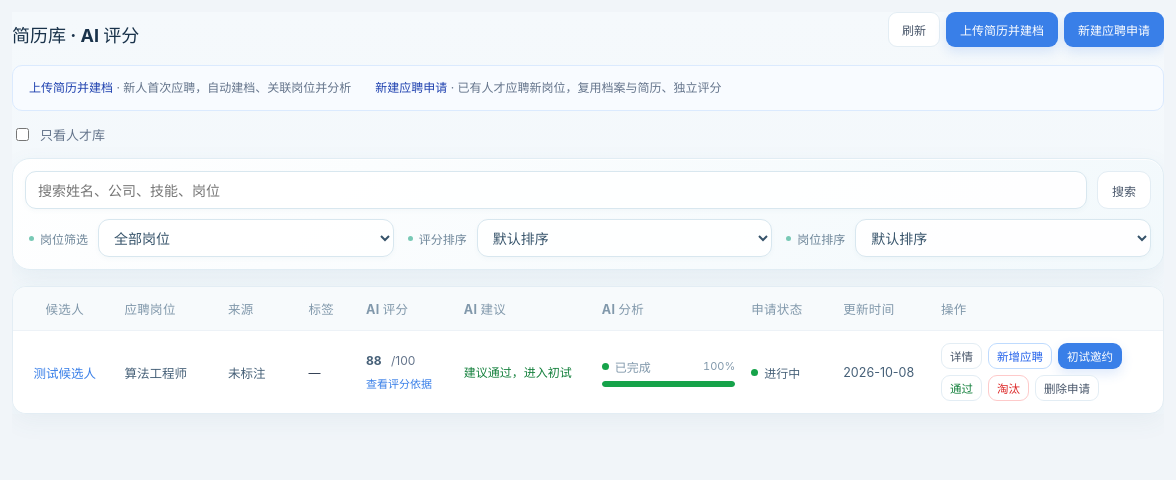
it: AI screening direct initial invitation › does not approve or schedule a stale row whose current status is rejected
Click the button "初试邀约". click: click(1090, 356)
box: [1058,343,1122,369]
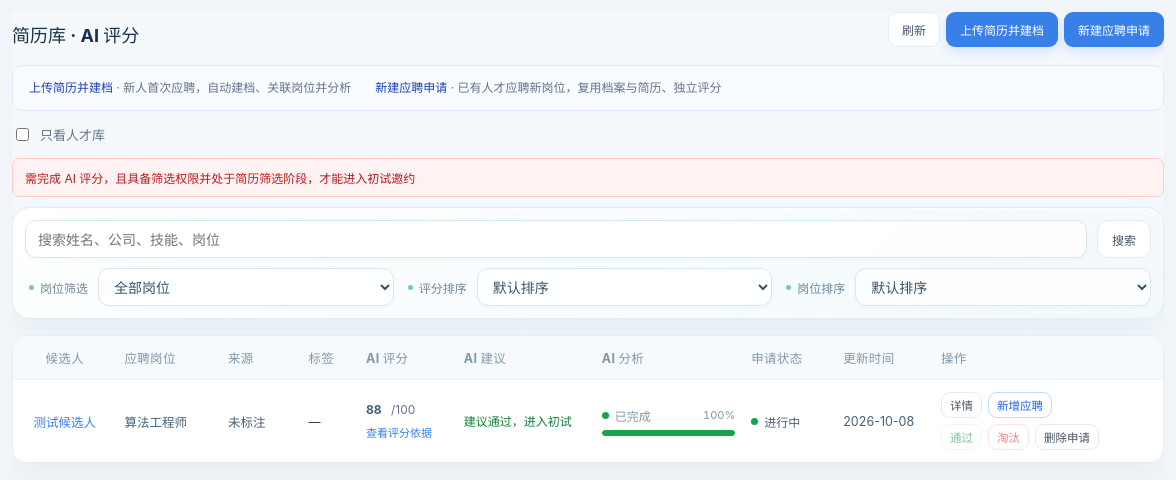
Now the text "处于简历筛选阶段" is shown, box [25,171,415,186]
